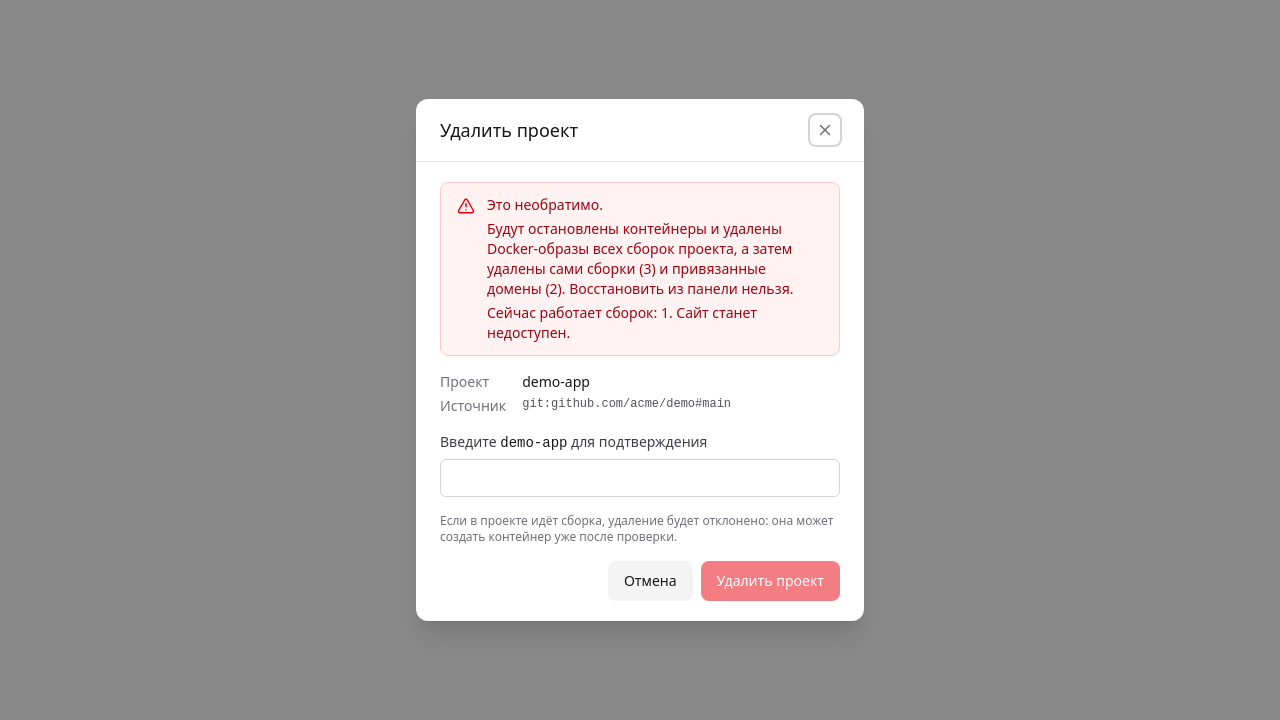
Test: DeleteProjectDialog › keeps the dialog open and reports why the server refused
The image size is (1280, 720).
Type "demo-app" into the field labelled "Введите demo-app для подтверждения" at (640, 478), box [440, 459, 840, 497]
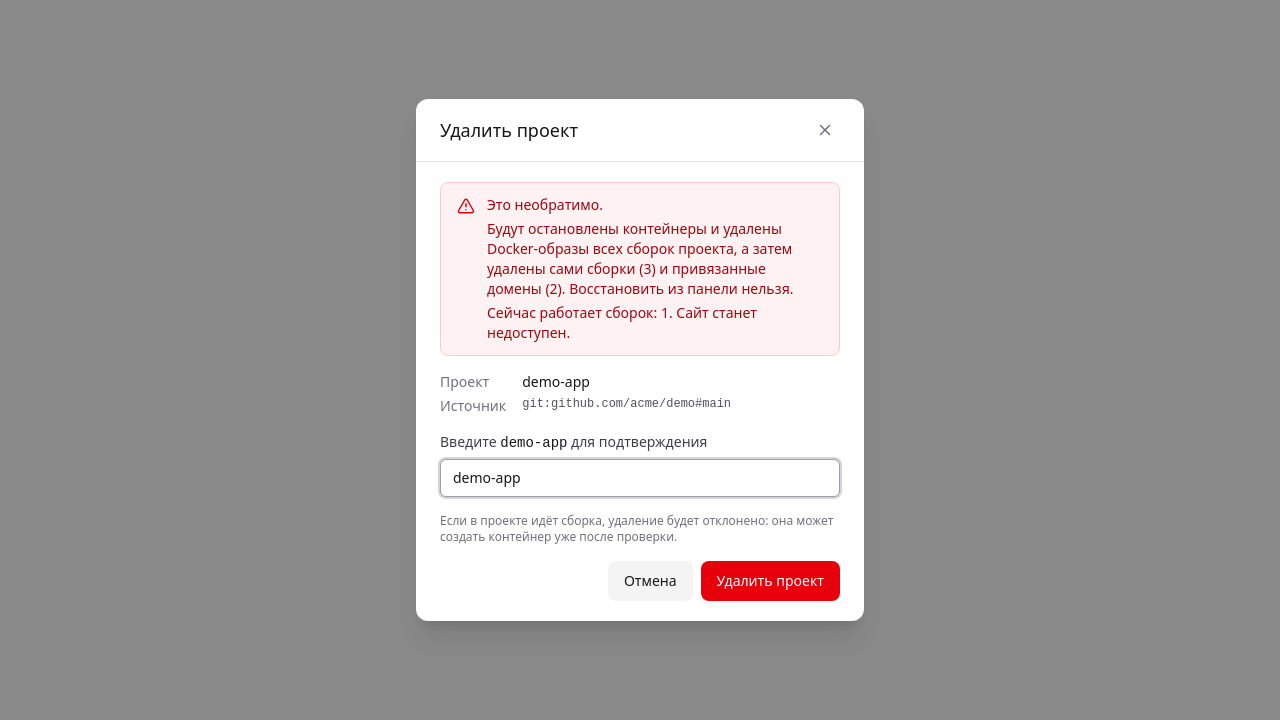
Click the button "Удалить проект" at (770, 581), box [701, 561, 840, 601]
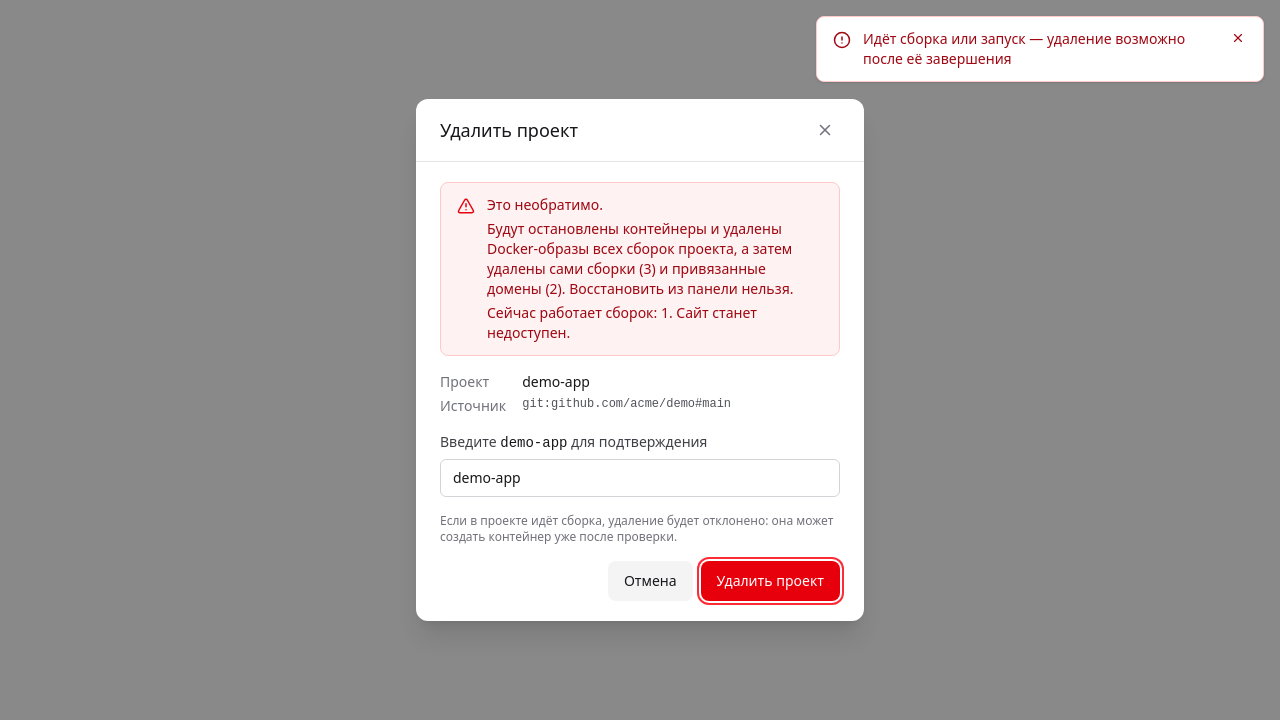
Expected: the text "Идёт сборка или запуск" is shown, [863, 29, 1185, 68]
